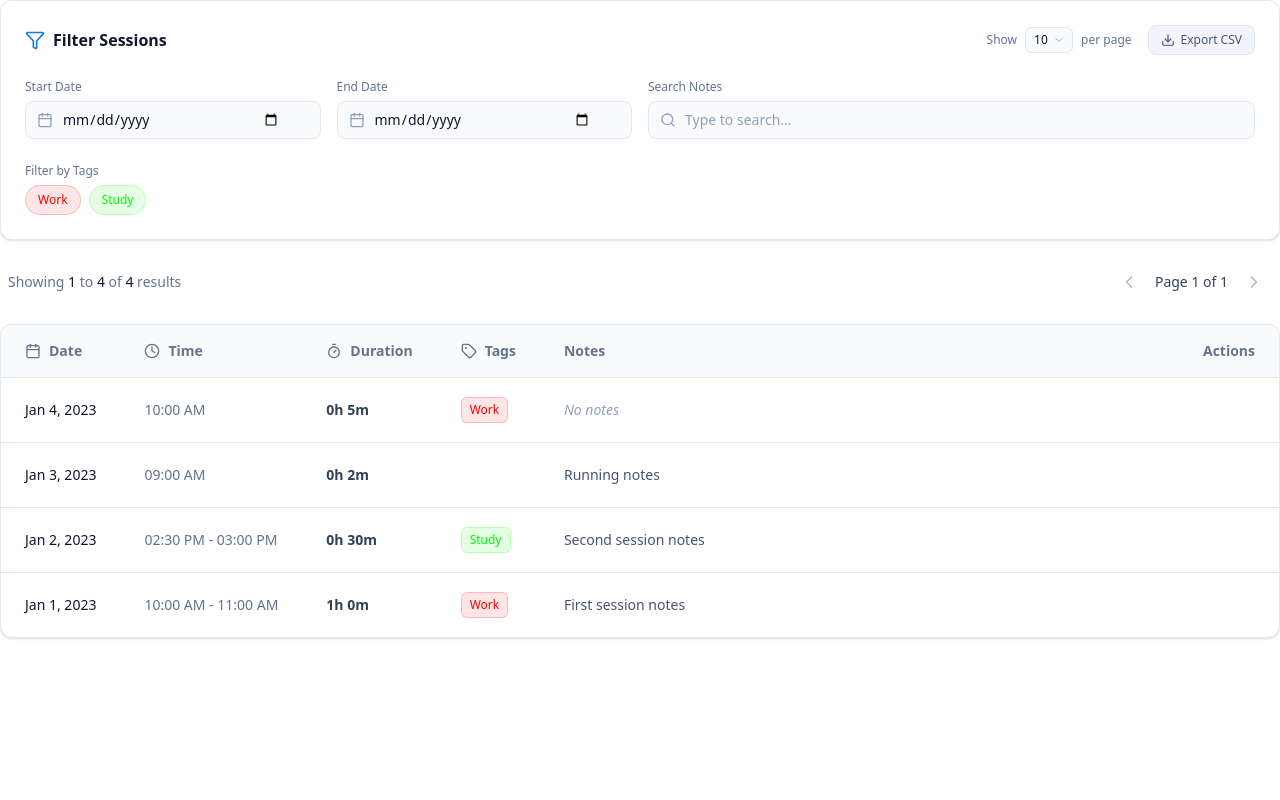
Test case: SessionsTable › filters by End Date
Type "2023-01-01" into the date field labelled "End Date" at (484, 120), box top-left (336, 101), bottom-right (632, 139)
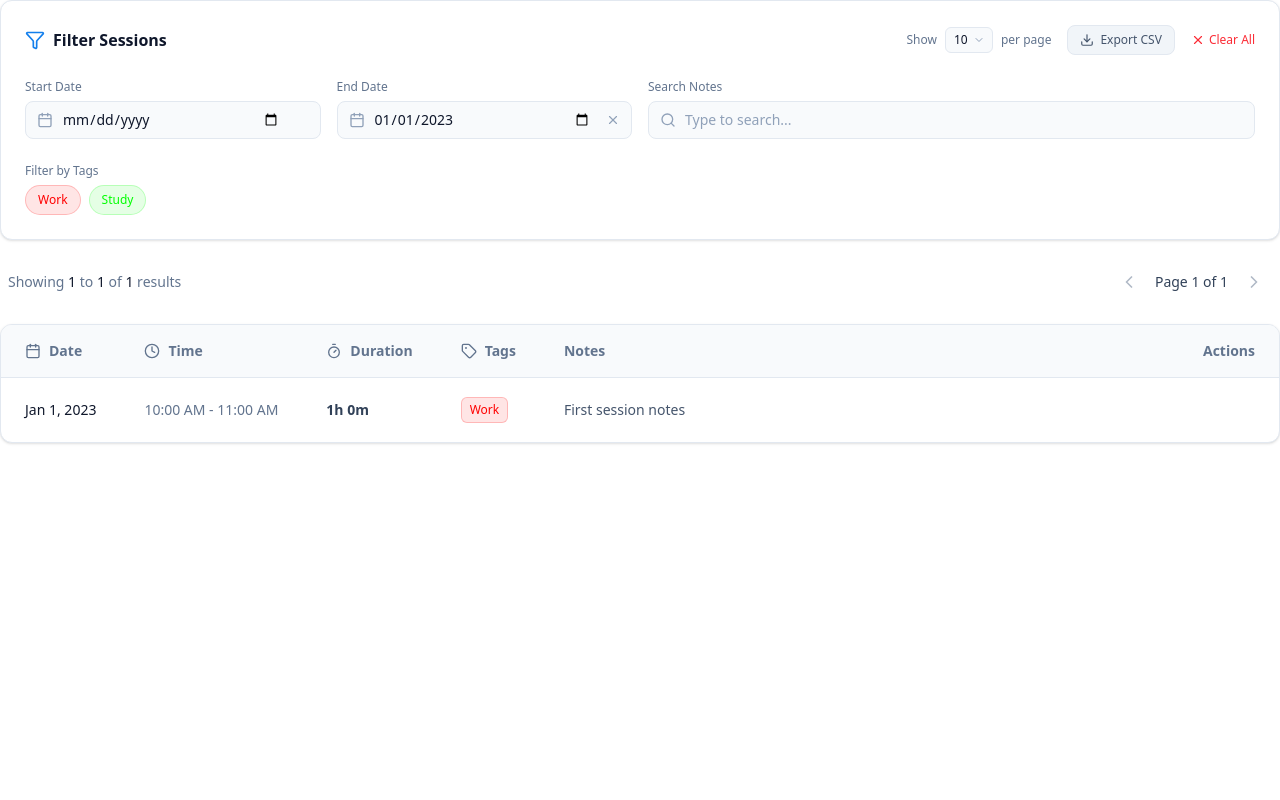
Expected: the text "First session notes" is shown, top-left (540, 378), bottom-right (1159, 442)
Result: the text "Second session notes" is gone
